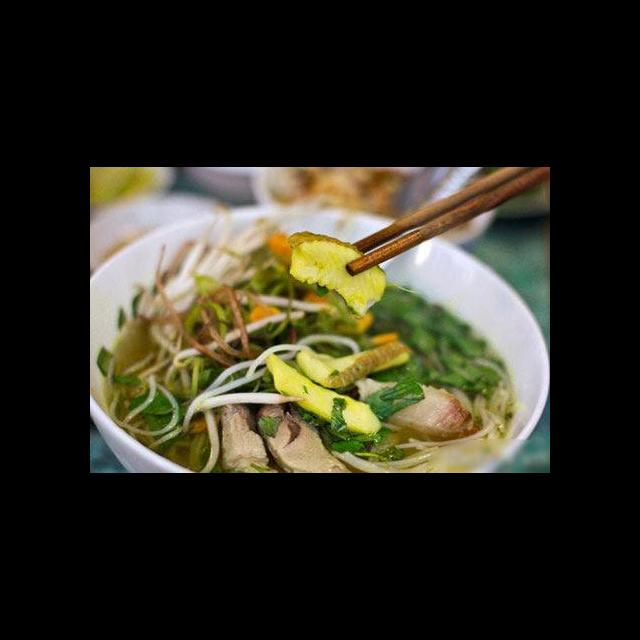bun ca: (107, 202, 533, 470)
ca: (258, 349, 384, 437), (286, 230, 389, 322), (296, 337, 417, 390)
thit heo quay: (350, 374, 484, 441), (251, 394, 355, 473), (213, 398, 286, 473)
